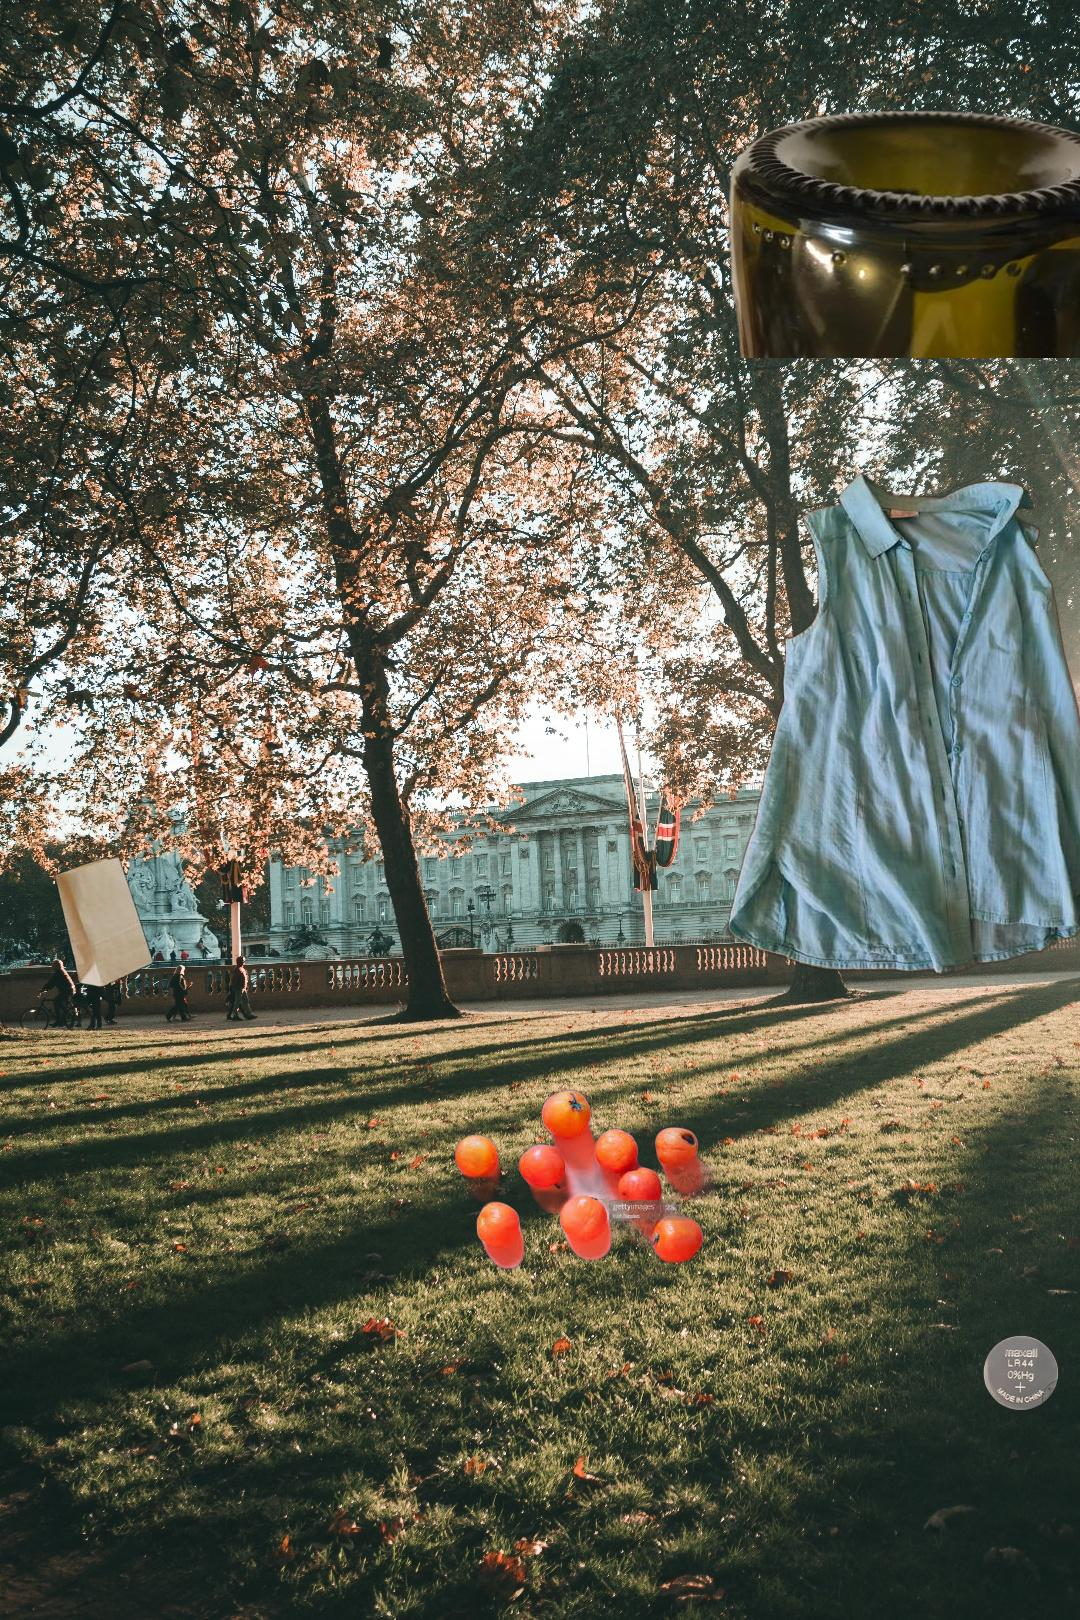battery: (981, 1333, 1061, 1413)
biological: (452, 1088, 721, 1270)
clothes: (724, 468, 1080, 978)
glass: (724, 107, 1080, 358)
paper-bag: (51, 853, 253, 990)
